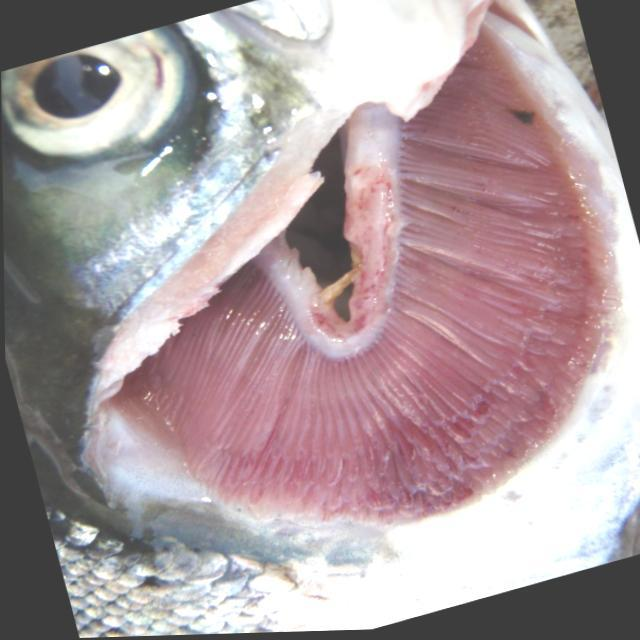Gill Disease: (31, 1, 628, 596)
